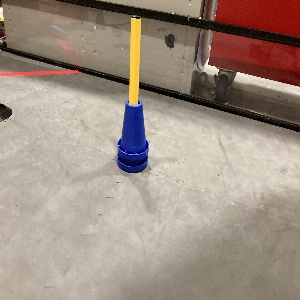Blue_2: (115, 103, 151, 170)
